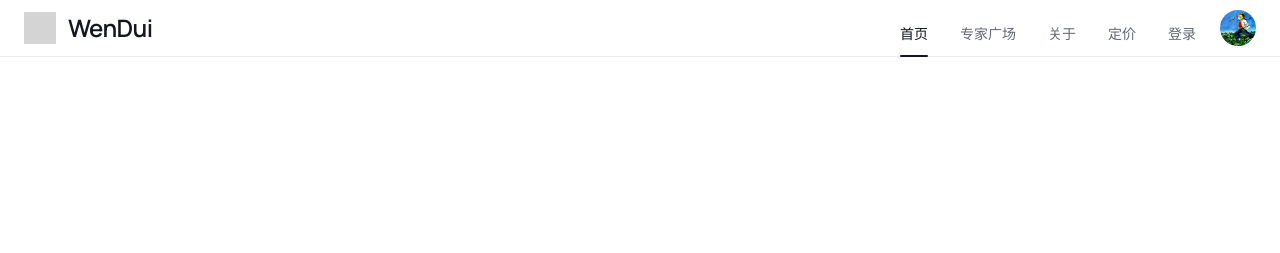
Test: renders the top bar with title and nav
Expected: the link "WenDui" is shown, [24, 11, 152, 44]
Expected: the text "首页" is shown, [900, 24, 928, 44]
Click the button with test id "account-trigger".
click(1238, 28)  # box [1220, 10, 1256, 46]
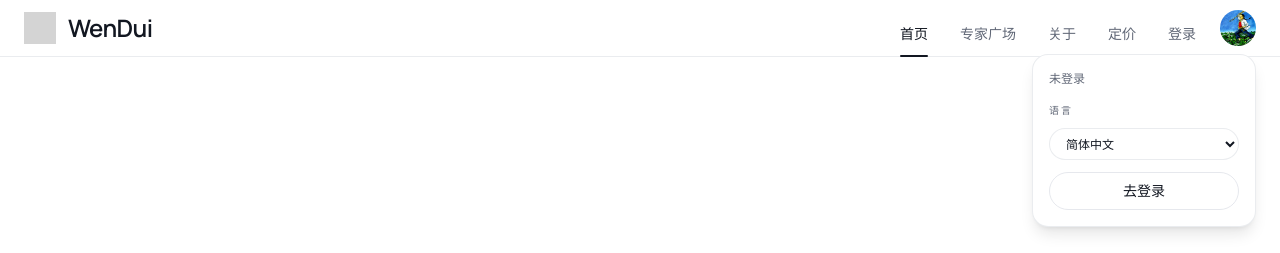
Expected: the text "未登录" is shown, [1049, 70, 1085, 87]
Expected: the dropdown named "语言" is shown, [1049, 128, 1239, 160]
